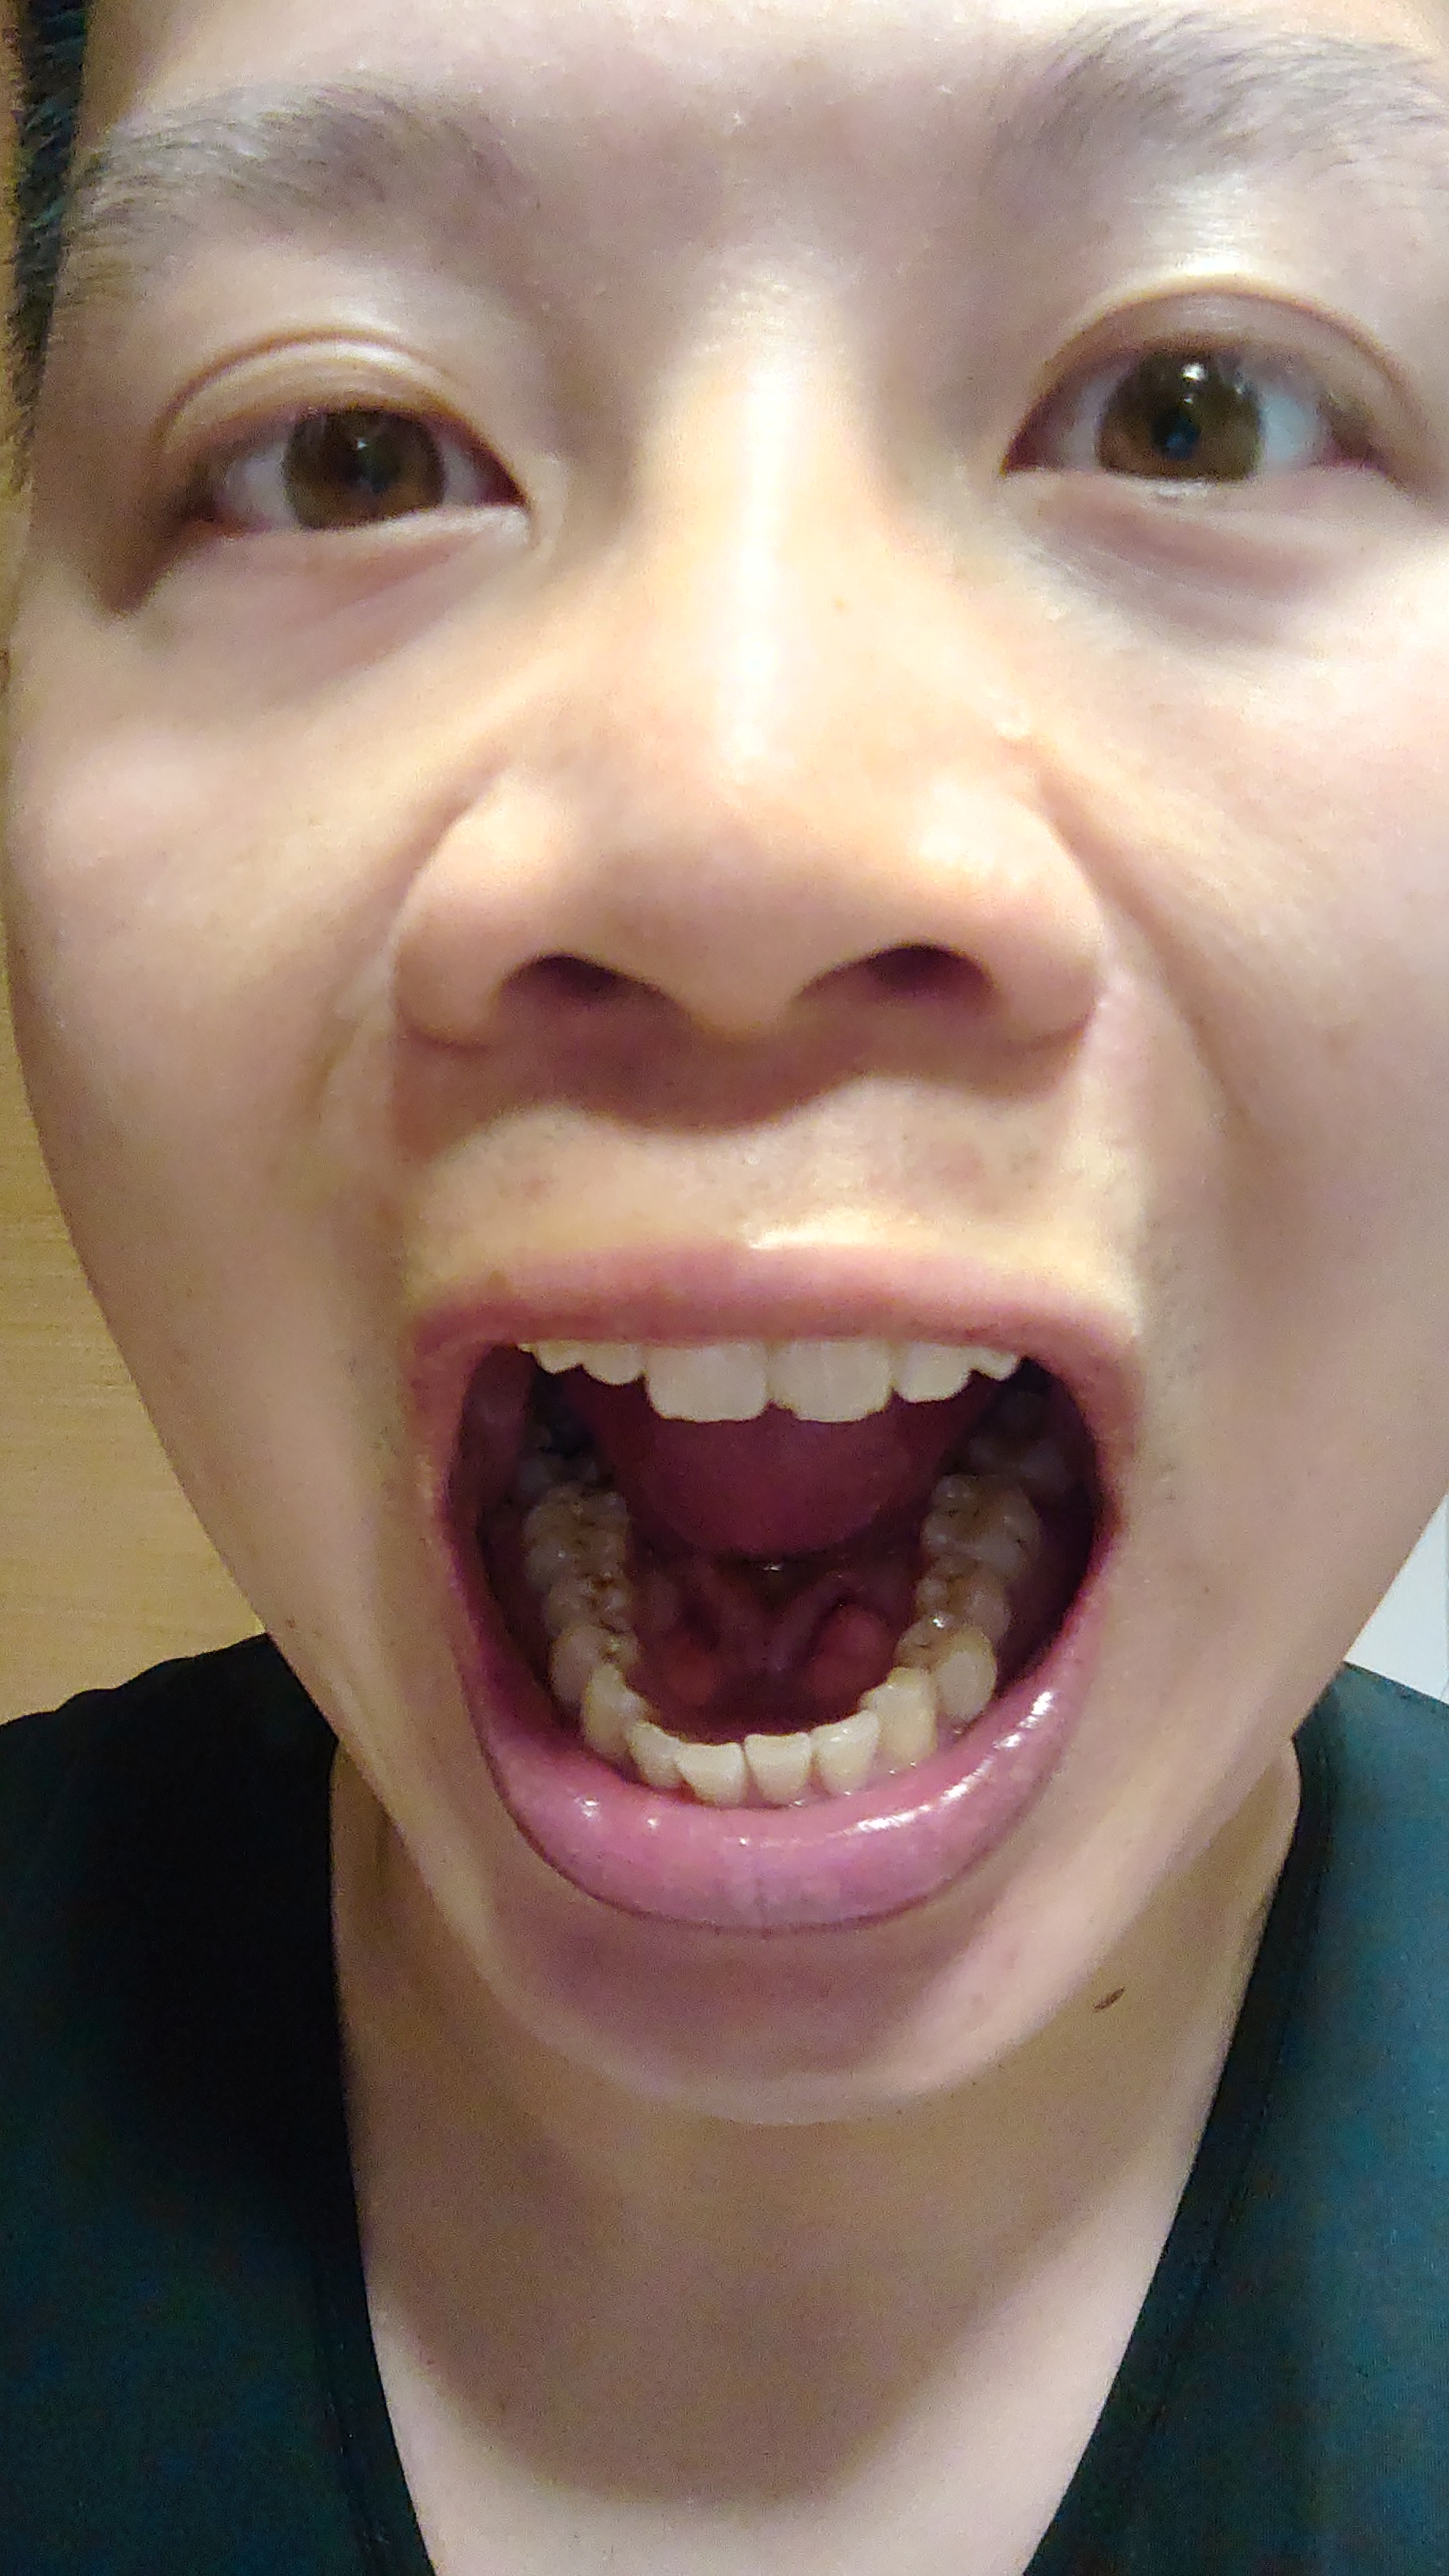teeth: (924, 1470, 1039, 1578), (899, 1619, 994, 1721), (525, 1484, 626, 1573), (548, 1617, 639, 1707), (918, 1555, 1010, 1644), (644, 1343, 759, 1412), (970, 1389, 1051, 1476), (773, 1345, 879, 1410), (580, 1667, 649, 1764), (865, 1661, 934, 1752), (547, 1562, 632, 1633), (748, 1736, 810, 1808), (527, 1422, 598, 1479), (819, 1716, 869, 1796), (681, 1743, 745, 1799), (630, 1725, 679, 1787), (895, 1350, 968, 1391), (584, 1343, 635, 1375), (531, 1339, 571, 1369), (977, 1350, 1017, 1371)
